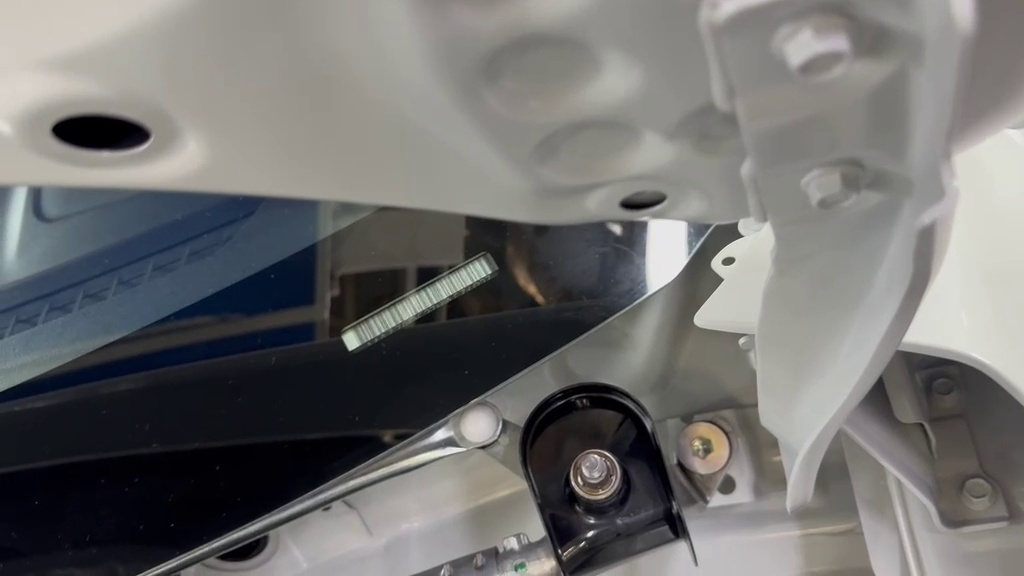barcode: (487, 368, 741, 576)
hinge: (319, 236, 515, 369)
